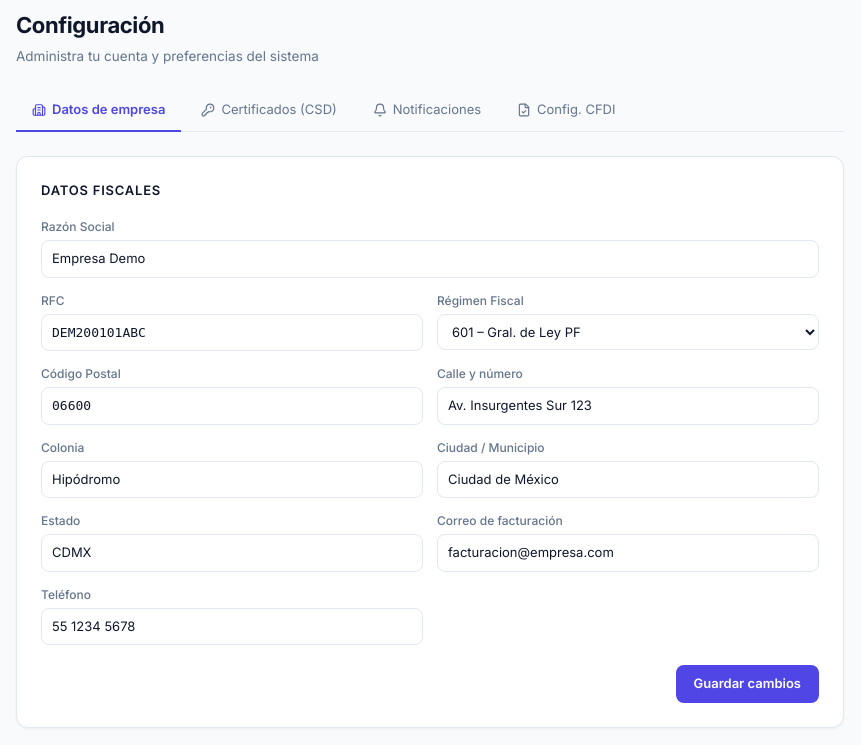
Test case: Configuracion - certificados › muestra el badge "Registrado" y el botón de reintentar cuando csdStatus es registrado
Click the button "Certificados (CSD)": (269, 111) 185,90 -> 353,132
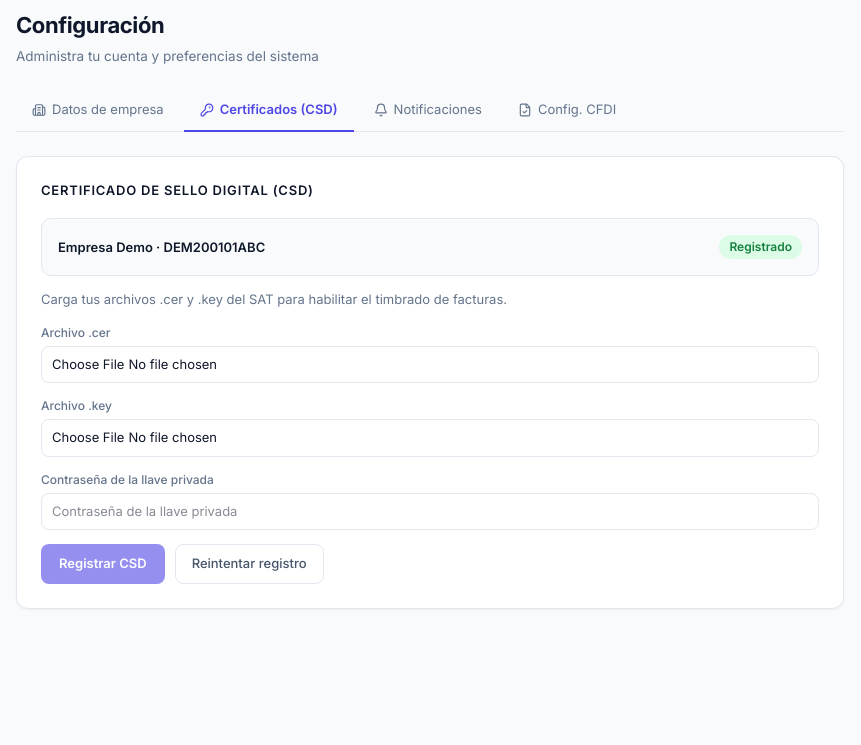
Expected: the text "Registrado" is shown, 719,235 -> 802,259
Expected: the button "Reintentar registro" is shown, 175,544 -> 324,584
